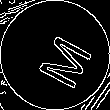M_NW: (22, 23, 88, 87)
